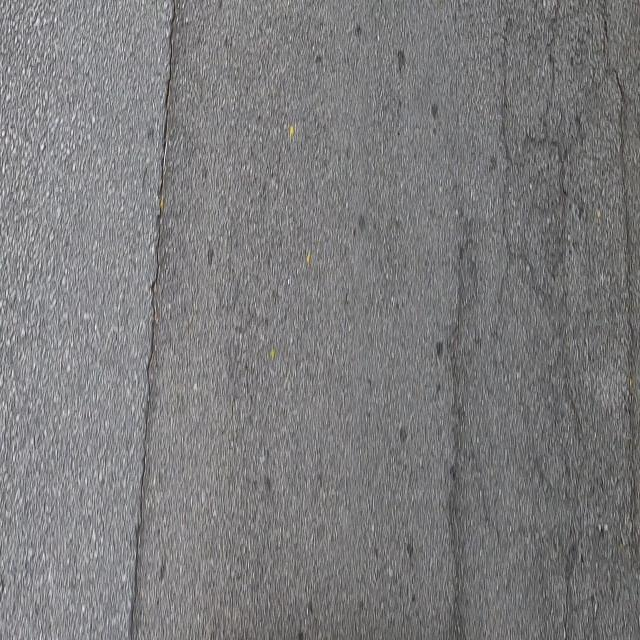Retak-Buaya: (489, 0, 636, 550)
Retak-Memanjang: (126, 0, 180, 640)
